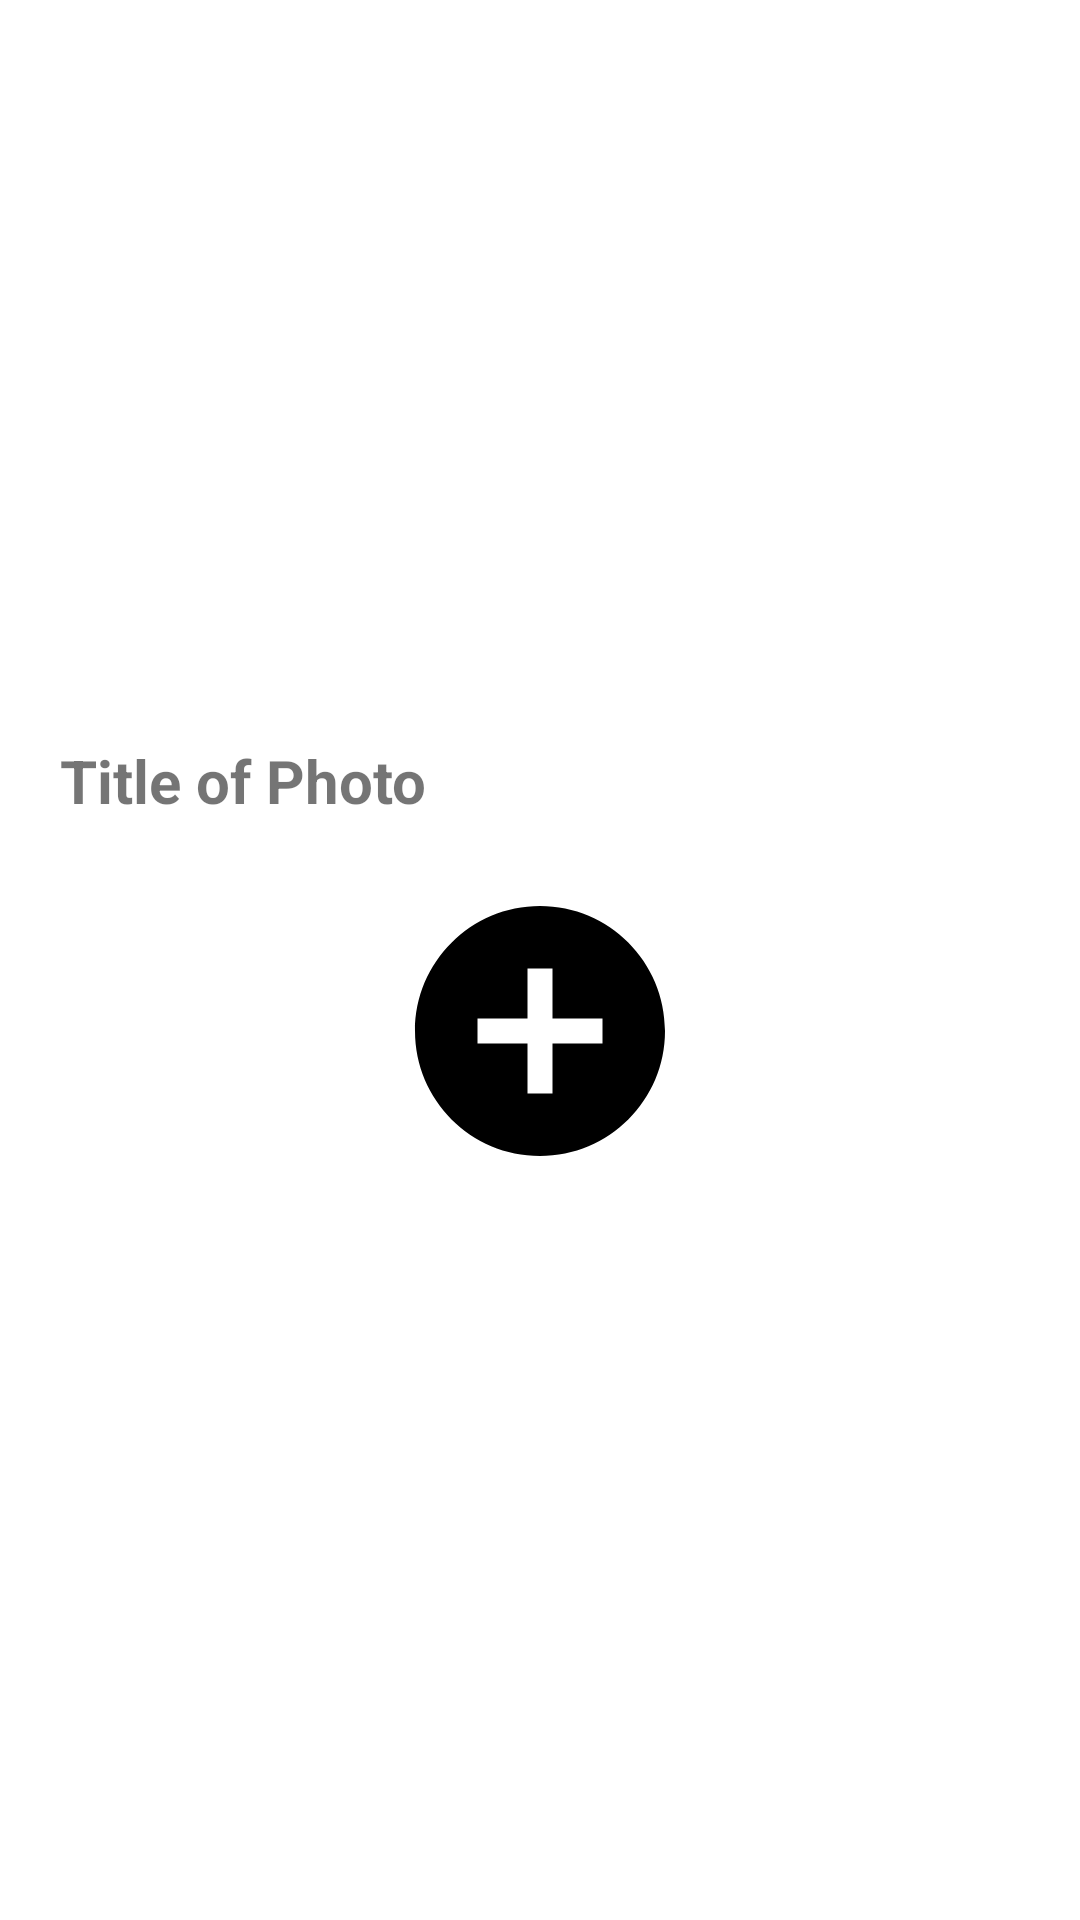

Named icons in this screenshot (1080x1920) and their centers, point (x, y):
add circle: point (540, 1031)
